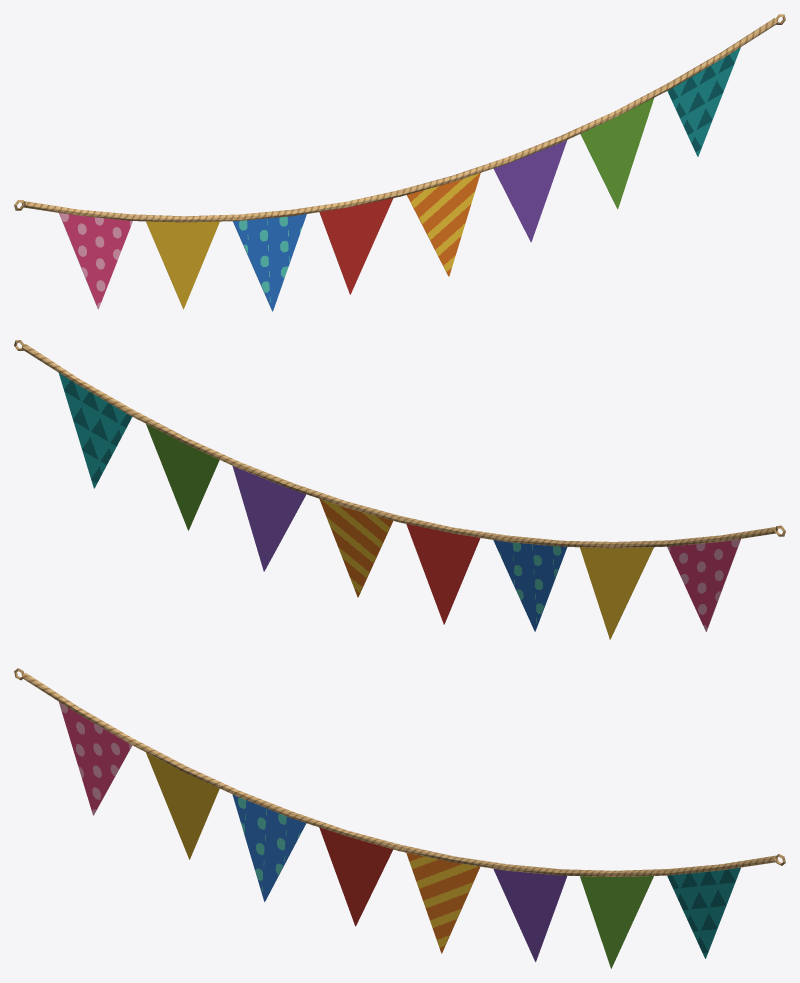
The model's file is FMS_Deco_Bunting_Pennants.fbx.
The picture shows the model from 3 angles, top to bottom: view 1: azimuth 30°, elevation 25°; view 2: azimuth 150°, elevation 25°; view 3: azimuth 330°, elevation 25°; orthographic projection.
Parts seen in each view (by area): view 1: item_decor_bunting_pennants; view 2: item_decor_bunting_pennants; view 3: item_decor_bunting_pennants.
Part boxes in pixels (bbox=[...]): item_decor_bunting_pennants: bbox=[14, 14, 785, 311]; item_decor_bunting_pennants: bbox=[14, 340, 785, 639]; item_decor_bunting_pennants: bbox=[14, 668, 785, 968].
Size of the model in its own units: 4 by 0.8841 by 0.076.
